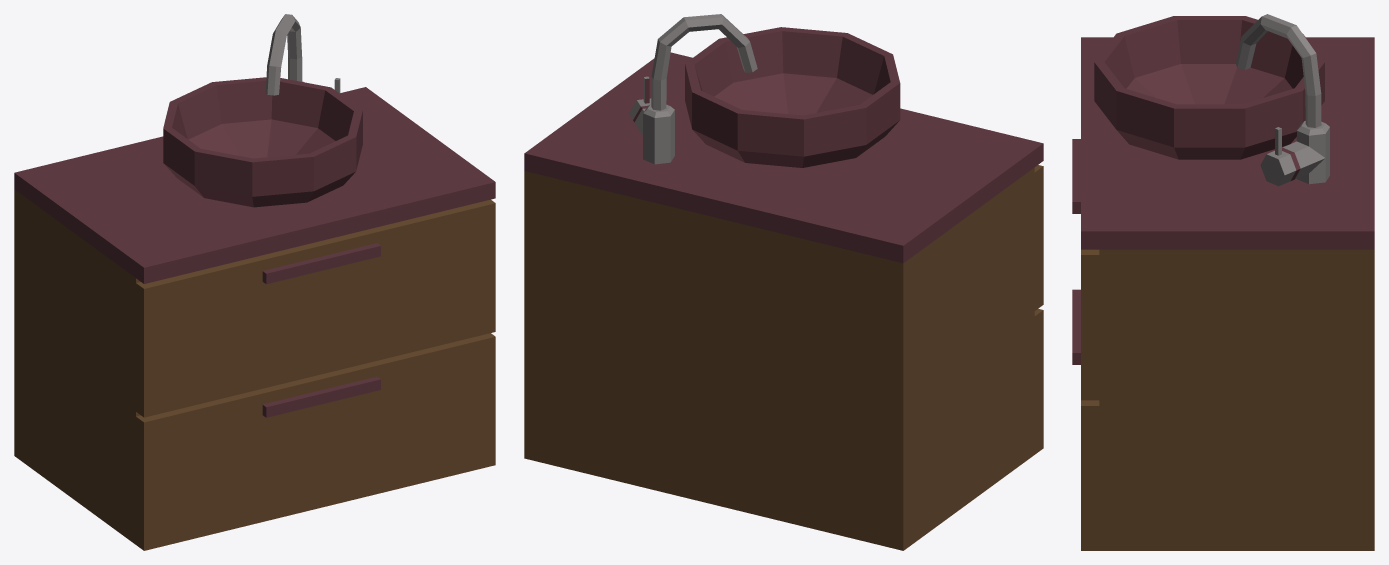
The model's file is cabinet-bathroom-modern-sink.fbx.
3 renders of one model, left to right at view 1: azimuth 30°, elevation 25°; view 2: azimuth 150°, elevation 25°; view 3: azimuth 270°, elevation 25°, orthographic. The views are drawn at different scales.
Parts seen in each view (by area): view 1: cabinet-bathroom-modern-sink; view 2: cabinet-bathroom-modern-sink; view 3: cabinet-bathroom-modern-sink.
Part boxes in pixels (box(x1,y1,x2,y2)): cabinet-bathroom-modern-sink: box(14, 14, 495, 550); cabinet-bathroom-modern-sink: box(524, 14, 1043, 550); cabinet-bathroom-modern-sink: box(1072, 14, 1374, 550).
Bounding box in the file's own units: 0.8 × 0.8899 × 0.5269.
